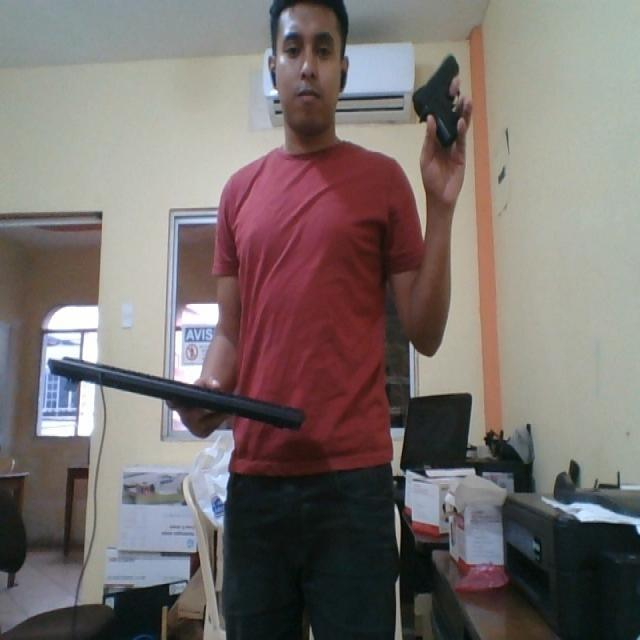weapon: (409, 52, 468, 149)
